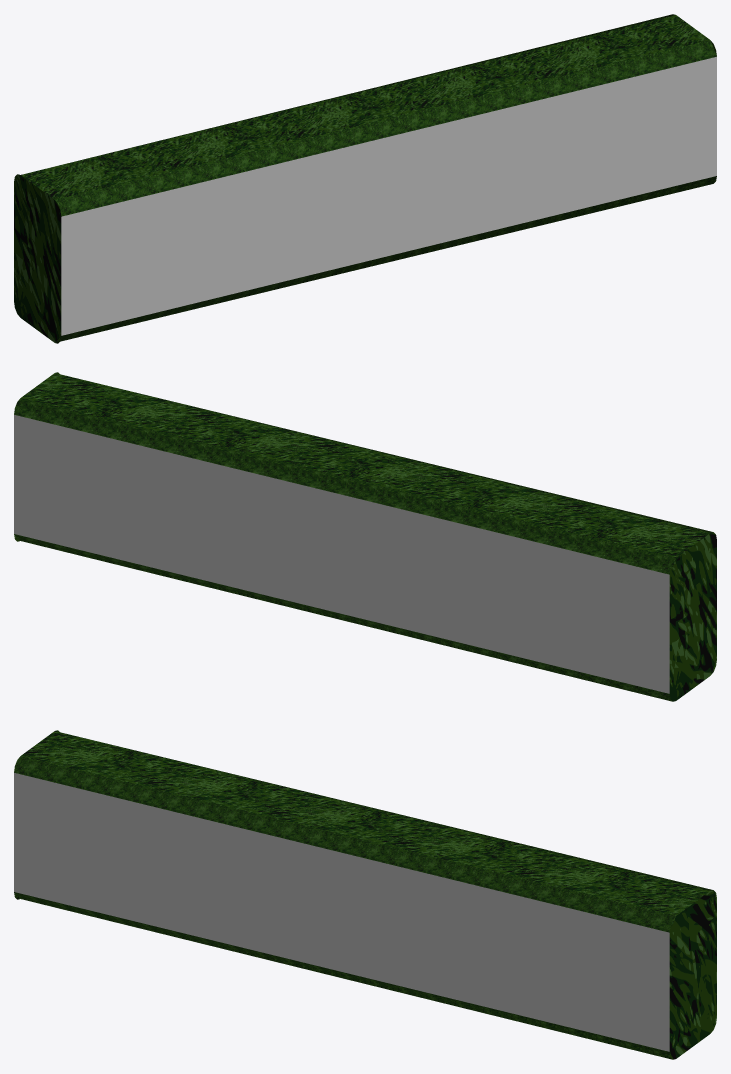
File: LevelEdgeUpDown.fbx
3 views of the same model, one above another, from view 1: azimuth 30°, elevation 25°; view 2: azimuth 150°, elevation 25°; view 3: azimuth 330°, elevation 25° (orthographic).
Parts seen in each view (by area): view 1: Cube; view 2: Cube; view 3: Cube.
Part boxes in pixels (x1=…): Cube: x1=14, y1=14, x2=716, y2=343; Cube: x1=14, y1=372, x2=716, y2=701; Cube: x1=14, y1=730, x2=716, y2=1059.
Size of the model in its own units: 2400 by 500 by 300.
